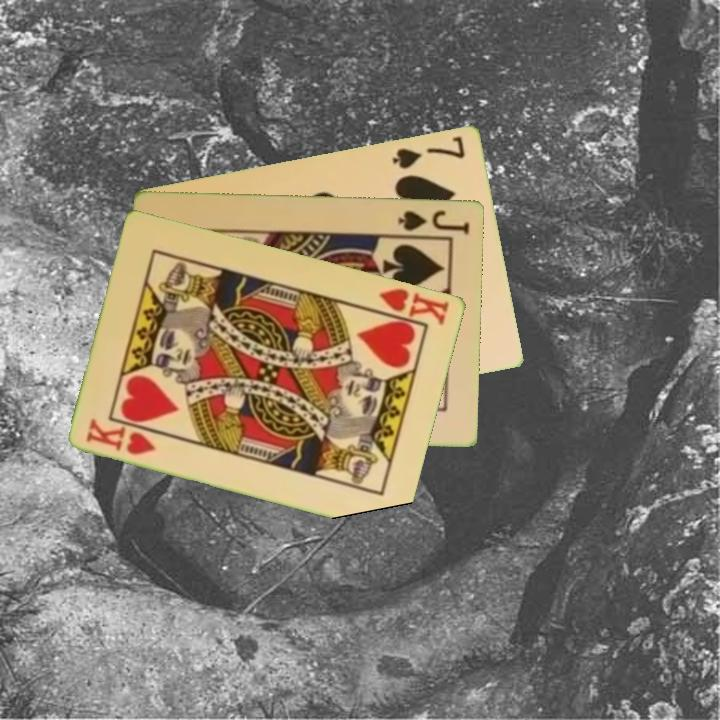7s: (389, 132, 469, 171)
Js: (395, 206, 473, 237)
Kh: (368, 284, 453, 328), (83, 415, 159, 458)
